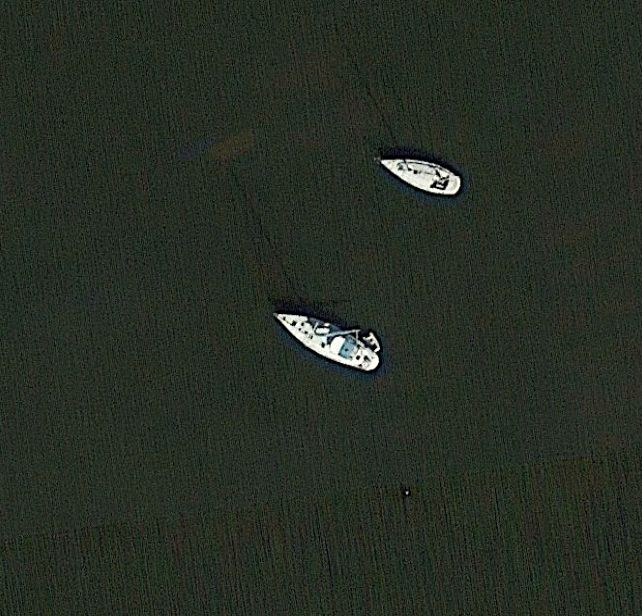boat: (268, 307, 383, 375), (367, 152, 468, 201)
